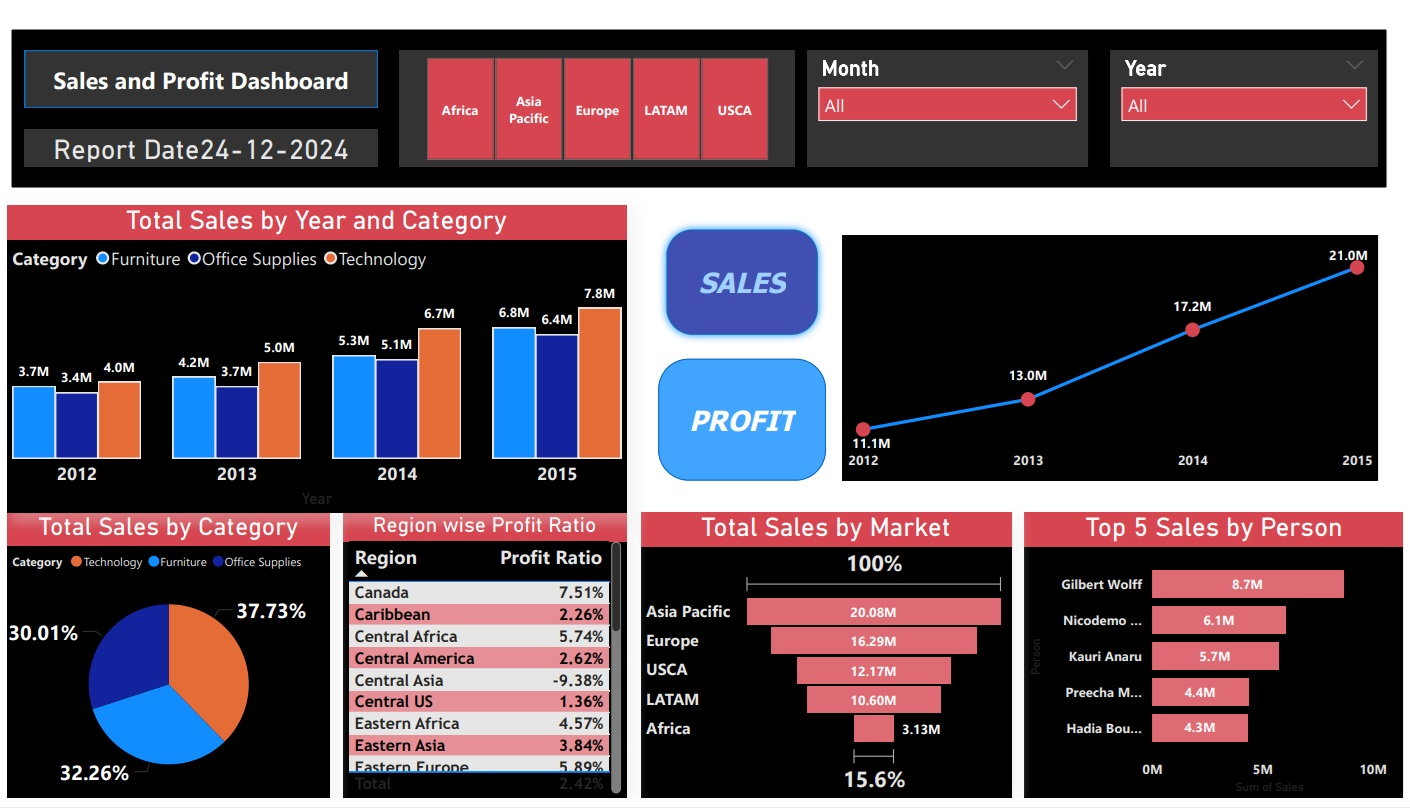

The page's visual inventory and layout, read from the dashboard file:
{"tool":"powerbi","page":{"name":"Final Dashboard","canvas":[1280,720],"ordinal":0},"visuals":[{"type":"shape","box":[581.3,176.5,688.2,268.8],"z":0},{"type":"barChart","title":"Top 5 Sales by Person","fields":{"Y":["Sum(Orders.Sales)"],"Category":["People.Person"]},"box":[932.7,458.2,348.1,262.3],"z":1000},{"type":"funnel","title":"Total Sales by Market","fields":{"Category":["Orders.Market"],"Y":["Sum(Orders.Sales)"]},"box":[581.3,458.2,340,262.3],"z":2000},{"type":"tableEx","title":"Region wise Profit Ratio","fields":{"Values":["Orders.Region","Orders.Profit Ratio"]},"box":[307.7,458.2,260.7,262.3],"z":3000},{"type":"pieChart","title":"Total Sales by Category","fields":{"Category":["Orders.Category"],"Y":["Sum(Orders.Sales)"]},"box":[0,458.2,296.3,262.3],"z":4000},{"type":"clusteredColumnChart","title":"Total Sales by Year and Category","fields":{"Series":["Orders.Category"],"Y":["Sum(Orders.Sales)"],"Category":["Date Table.Date.Variation.Date Hierarchy.Year"]},"box":[0,176.5,568.3,281.7],"z":5000},{"type":"shape","box":[0,11.3,1269.5,152.2],"z":6000},{"type":"lineChart","title":"Total Sales by Year","fields":{"Category":["Date Table.Date.Variation.Date Hierarchy.Year"],"Y":["Sum(Orders.Sales)"]},"box":[765.9,204,490.6,225.1],"z":7000},{"type":"shape","title":"Sales_clicked","box":[597.5,191.1,153.8,111.7],"z":9000},{"type":"shape","title":"Profit","box":[597.5,317.4,153.8,111.7],"z":12000},{"type":"slicer","fields":{"Values":["Date Table.Date.Variation.Date Hierarchy.Year"]},"box":[1012,34,244.5,106.9],"z":13000},{"type":"slicer","fields":{"Values":["Date Table.Date.Variation.Date Hierarchy.Month"]},"box":[733.5,34,257.5,106.9],"z":14000},{"type":"slicer","fields":{"Values":["Orders.Market"]},"box":[359.5,34,362.7,106.9],"z":15000},{"type":"card","fields":{"Values":["Date Table.Report Date"]},"box":[16.2,106.9,323.8,34],"z":16000},{"type":"shape","box":[16.2,34,323.8,53.4],"z":17000}]}

Visuals, with their boxes in screenshot pixels (x1, y1, x2, y2), scaled from the page's 1280x720 canvas onto the 1410x808 screenshot:
shape: [640,198,1398,500]
"Top 5 Sales by Person" barChart: [1027,514,1409,807]
"Total Sales by Market" funnel: [640,514,1015,807]
"Region wise Profit Ratio" tableEx: [339,514,626,807]
"Total Sales by Category" pieChart: [0,514,326,807]
"Total Sales by Year and Category" clusteredColumnChart: [0,198,626,514]
shape: [0,13,1398,183]
"Total Sales by Year" lineChart: [844,229,1384,482]
"Sales_clicked" shape: [658,214,828,340]
"Profit" shape: [658,356,828,482]
slicer - Date Table.Date.Variation.Date Hierarchy.Year: [1115,38,1384,158]
slicer - Date Table.Date.Variation.Date Hierarchy.Month: [808,38,1092,158]
slicer - Orders.Market: [396,38,796,158]
card - Date Table.Report Date: [18,120,375,158]
shape: [18,38,375,98]
